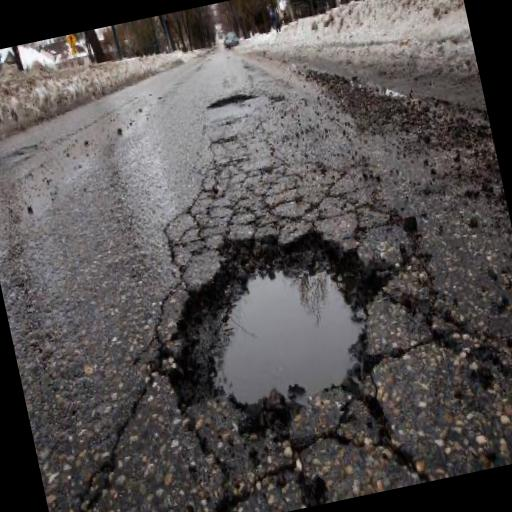pothole: (134, 200, 420, 462), (206, 86, 255, 111)
